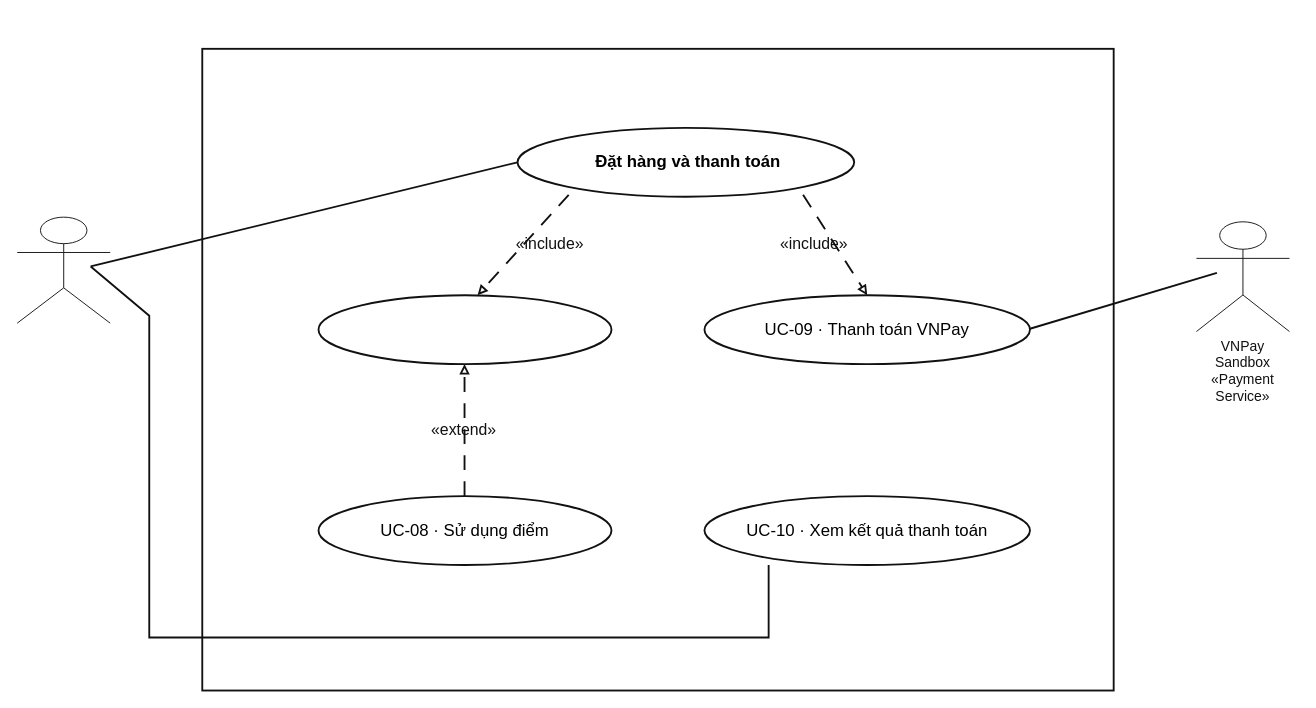
This 1316x708 diagram has some shape labels left out. Here are the shapes that lost their labels. From the top down, the centre of each, then its label:
[63,269]: Khách hàng (Customer)
[464,329]: UC-06 · Tạo đơn hàng
